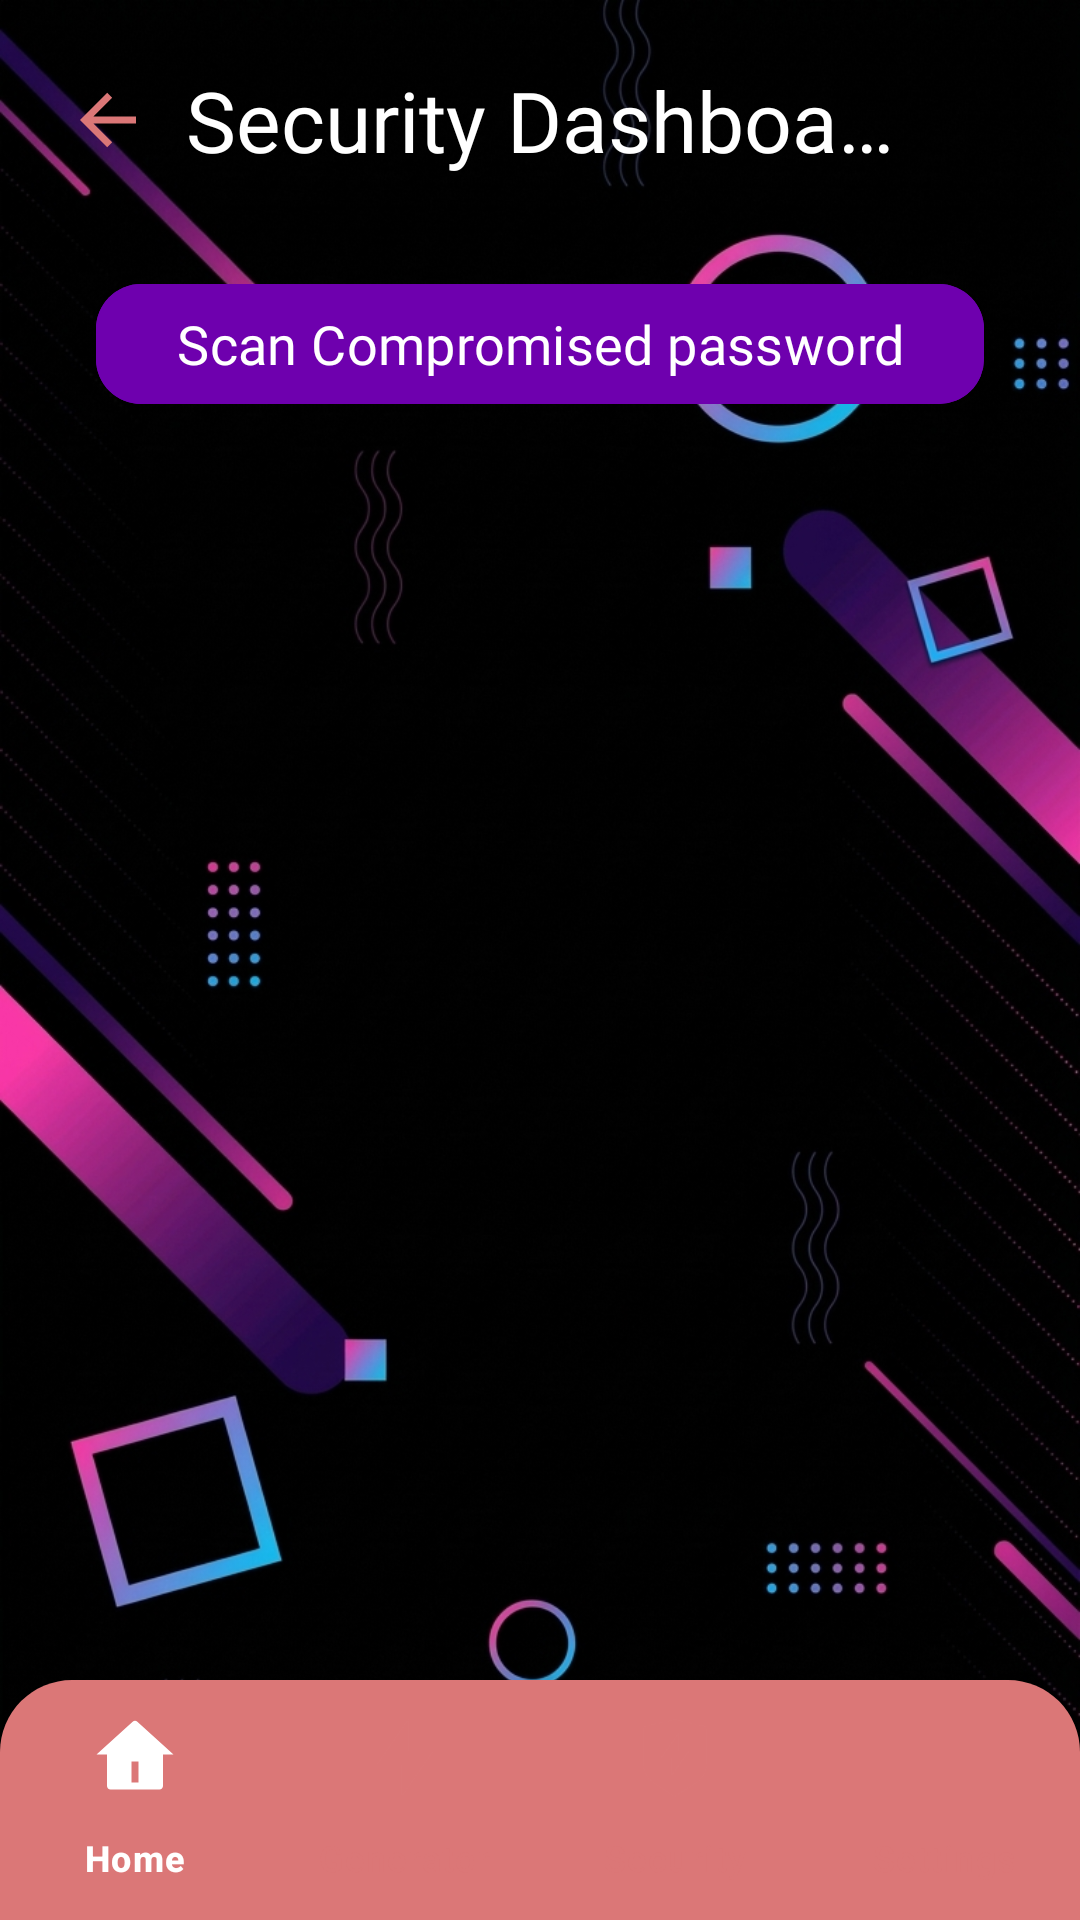

Locate icon controls on the screen. Image size 1080x1920, boxes as (x1, y1, x2, y2).
arrow left line: (48, 77, 151, 180)
